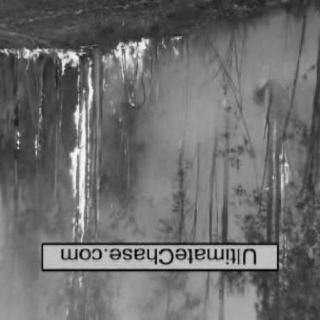Fire: (62, 48, 94, 244), (98, 38, 166, 126), (275, 138, 297, 218), (170, 34, 188, 68)
